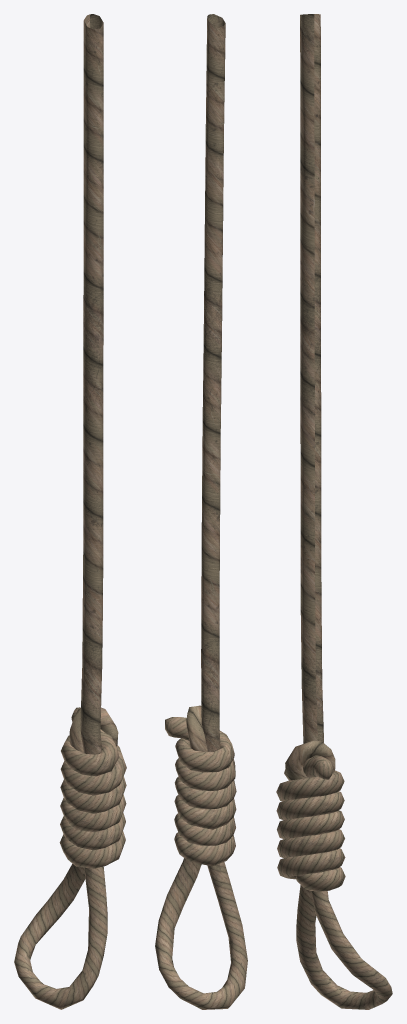
File: SM_Noose.fbx
3 views of the same model, side by side, from view 1: azimuth 90°, elevation 25°; view 2: azimuth 150°, elevation 25°; view 3: azimuth 270°, elevation 25° (orthographic). The views are drawn at different scales.
Parts seen in each view (by area): view 1: SM_Noose_LOD0; view 2: SM_Noose_LOD0; view 3: SM_Noose_LOD0.
Part boxes in pixels (x1,y1,x2,y2): SM_Noose_LOD0: (14,14,126,1009); SM_Noose_LOD0: (155,14,247,1009); SM_Noose_LOD0: (276,14,392,1009).
Size of the model in its own units: 16.23 by 20.42 by 196.
